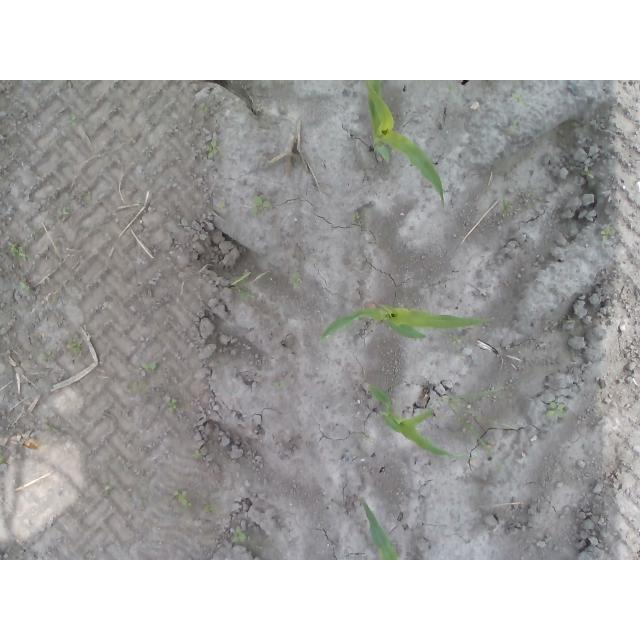Maize: (365, 80, 448, 210), (319, 302, 494, 343), (365, 381, 451, 459), (361, 500, 401, 561)
Weeds: (455, 413, 494, 450), (227, 271, 257, 301), (247, 195, 273, 217), (544, 400, 569, 417), (464, 388, 496, 401), (6, 241, 26, 259), (205, 140, 221, 161), (231, 527, 251, 542), (176, 490, 193, 507), (66, 336, 82, 352), (287, 270, 301, 288), (600, 225, 616, 239), (499, 199, 514, 212), (440, 395, 457, 406), (57, 207, 69, 222), (191, 450, 206, 462), (102, 480, 113, 496), (66, 114, 78, 128), (271, 382, 289, 391), (143, 361, 161, 369), (17, 281, 31, 290), (198, 102, 209, 112), (582, 166, 592, 177), (167, 399, 177, 409), (450, 336, 462, 344), (206, 504, 216, 513), (513, 94, 523, 102), (352, 212, 361, 220), (47, 352, 55, 360)
